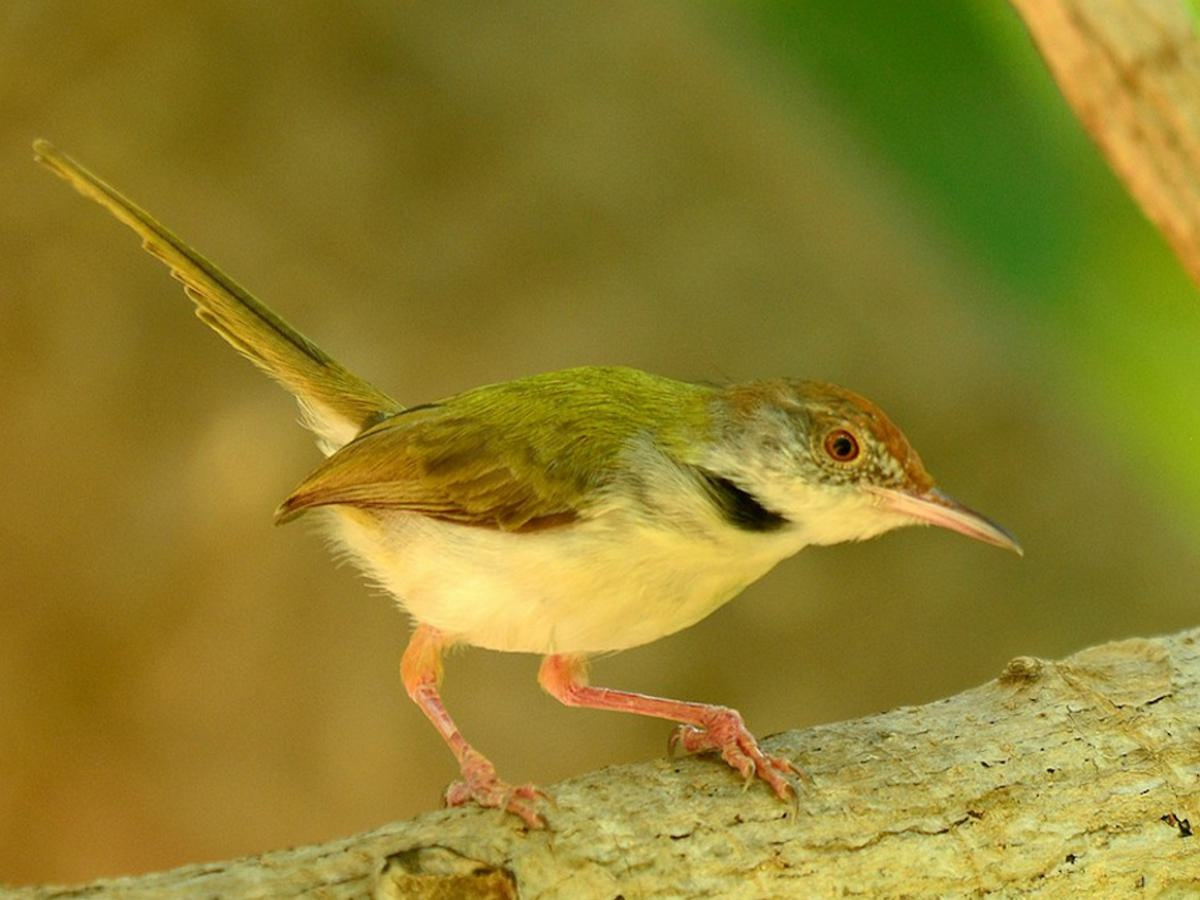tailorbird: (85, 167, 994, 787)
